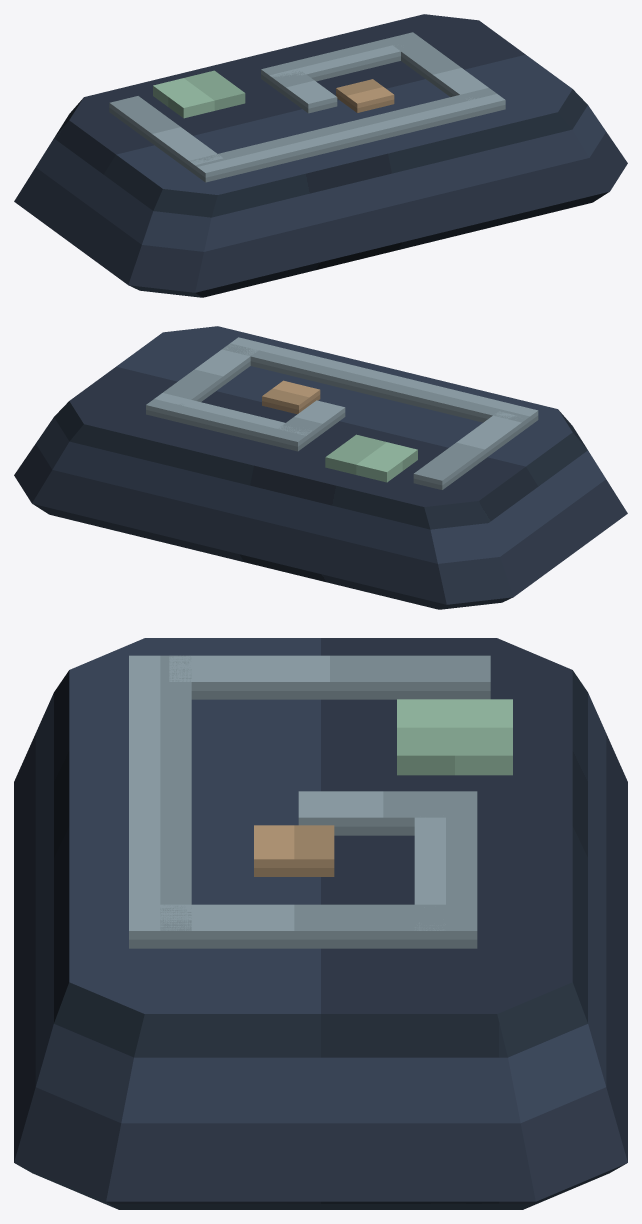
The model's file is zhuji_wuyao_yeque_ingot.obj.
3 renders of one model, top to bottom at view 1: azimuth 30°, elevation 25°; view 2: azimuth 150°, elevation 25°; view 3: azimuth 270°, elevation 25°, orthographic. The views are drawn at different scales.
Parts seen in each view (by area): view 1: ingot_body, night_ingot_gate_1, night_ingot_gate_0, night_ingot_gate_3, night_ingot_gate_2, night_ingot_jade, night_ingot_gate_4, night_ingot_bronze; view 2: ingot_body, night_ingot_gate_1, night_ingot_gate_3, night_ingot_gate_0, night_ingot_jade, night_ingot_gate_2, night_ingot_gate_4, night_ingot_bronze; view 3: ingot_body, night_ingot_gate_1, night_ingot_gate_0, night_ingot_gate_2, night_ingot_jade, night_ingot_gate_3, night_ingot_gate_4, night_ingot_bronze.
Part boxes in pixels (bbox=[...]): ingot_body: bbox=[14, 14, 627, 297]; night_ingot_gate_1: bbox=[189, 88, 505, 182]; night_ingot_gate_0: bbox=[109, 96, 222, 174]; night_ingot_gate_3: bbox=[261, 32, 417, 90]; night_ingot_gate_2: bbox=[389, 35, 505, 116]; night_ingot_jade: bbox=[153, 70, 245, 118]; night_ingot_gate_4: bbox=[263, 70, 337, 113]; night_ingot_bronze: bbox=[336, 79, 394, 112]; ingot_body: bbox=[14, 326, 627, 609]; night_ingot_gate_1: bbox=[222, 337, 538, 431]; night_ingot_gate_3: bbox=[146, 393, 314, 451]; night_ingot_gate_0: bbox=[413, 411, 521, 489]; night_ingot_jade: bbox=[325, 434, 417, 482]; night_ingot_gate_2: bbox=[151, 337, 266, 408]; night_ingot_gate_4: bbox=[272, 400, 345, 440]; night_ingot_bronze: bbox=[262, 380, 320, 414]; ingot_body: bbox=[14, 638, 627, 1209]; night_ingot_gate_1: bbox=[129, 655, 191, 948]; night_ingot_gate_0: bbox=[169, 655, 490, 699]; night_ingot_gate_2: bbox=[129, 904, 459, 948]; night_ingot_jade: bbox=[397, 699, 512, 775]; night_ingot_gate_3: bbox=[414, 791, 477, 948]; night_ingot_gate_4: bbox=[298, 791, 468, 835]; night_ingot_bronze: bbox=[254, 825, 334, 876].
Bounding box in the file's own units: 0.38 × 0.0725 × 0.215.
